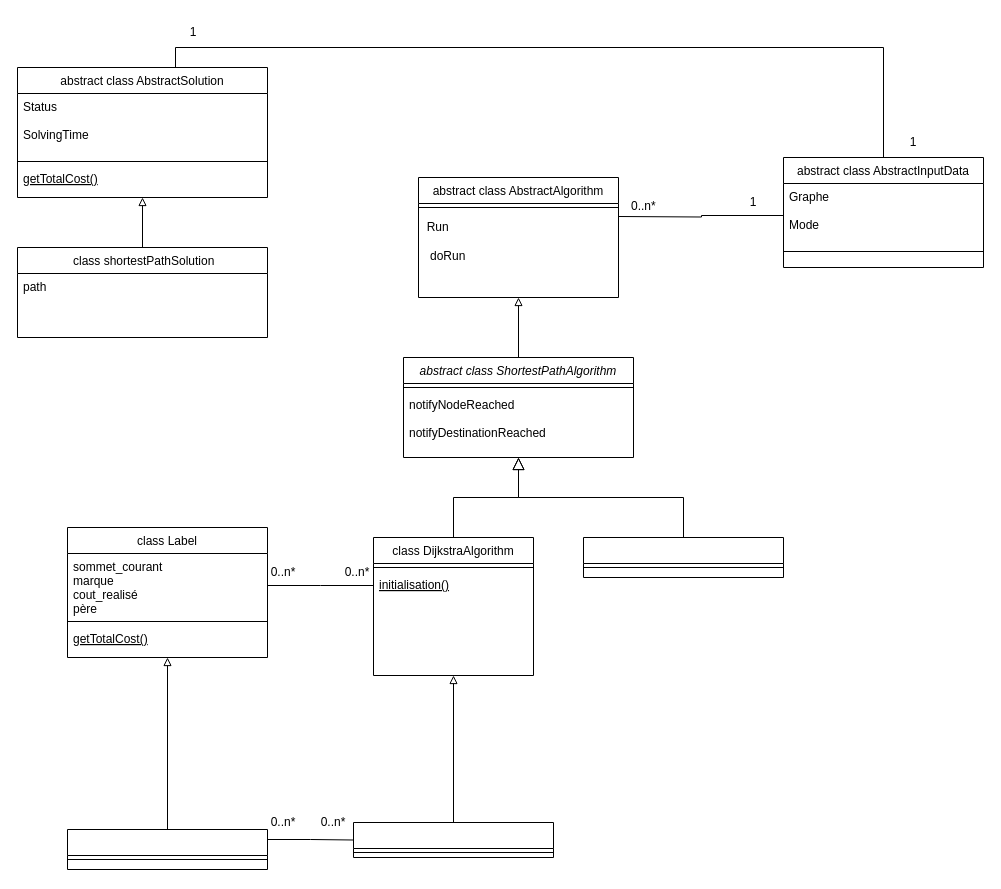
The diagram is 1001 pixels wide and 889 high, and some of its shapes have lost their labels. Here are the shapes that lost their labels. From the top down, the centre of each, then its label:
At [683,557]: "class BellmanFordAlgorithm".
At [167,849]: "class LabelStar".
At [453,840]: "class AStarAlgorithm".
